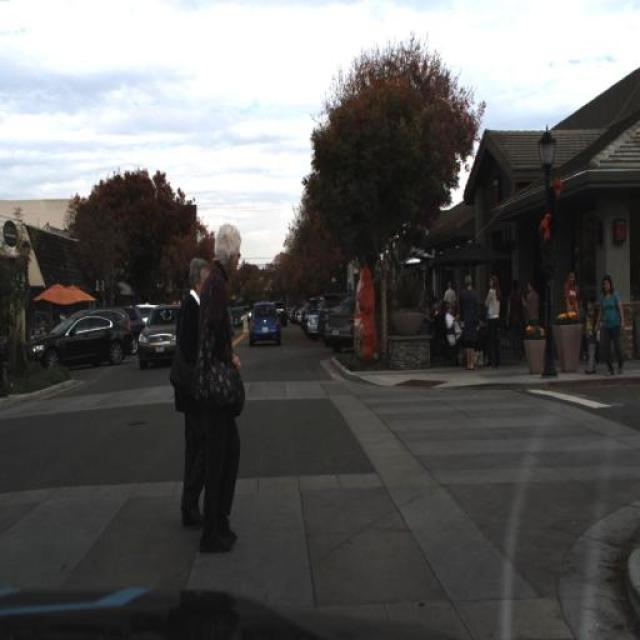car: (31, 310, 118, 372), (133, 303, 183, 369), (250, 300, 282, 350), (316, 290, 340, 346), (328, 297, 352, 345), (308, 303, 316, 339)
trafficLight: (176, 217, 252, 565), (167, 253, 211, 548), (594, 273, 627, 376), (456, 274, 485, 377), (562, 267, 584, 358), (482, 270, 502, 366), (505, 277, 526, 363), (443, 301, 471, 364), (582, 300, 602, 372), (525, 278, 541, 354), (442, 277, 459, 317), (300, 298, 306, 334)
